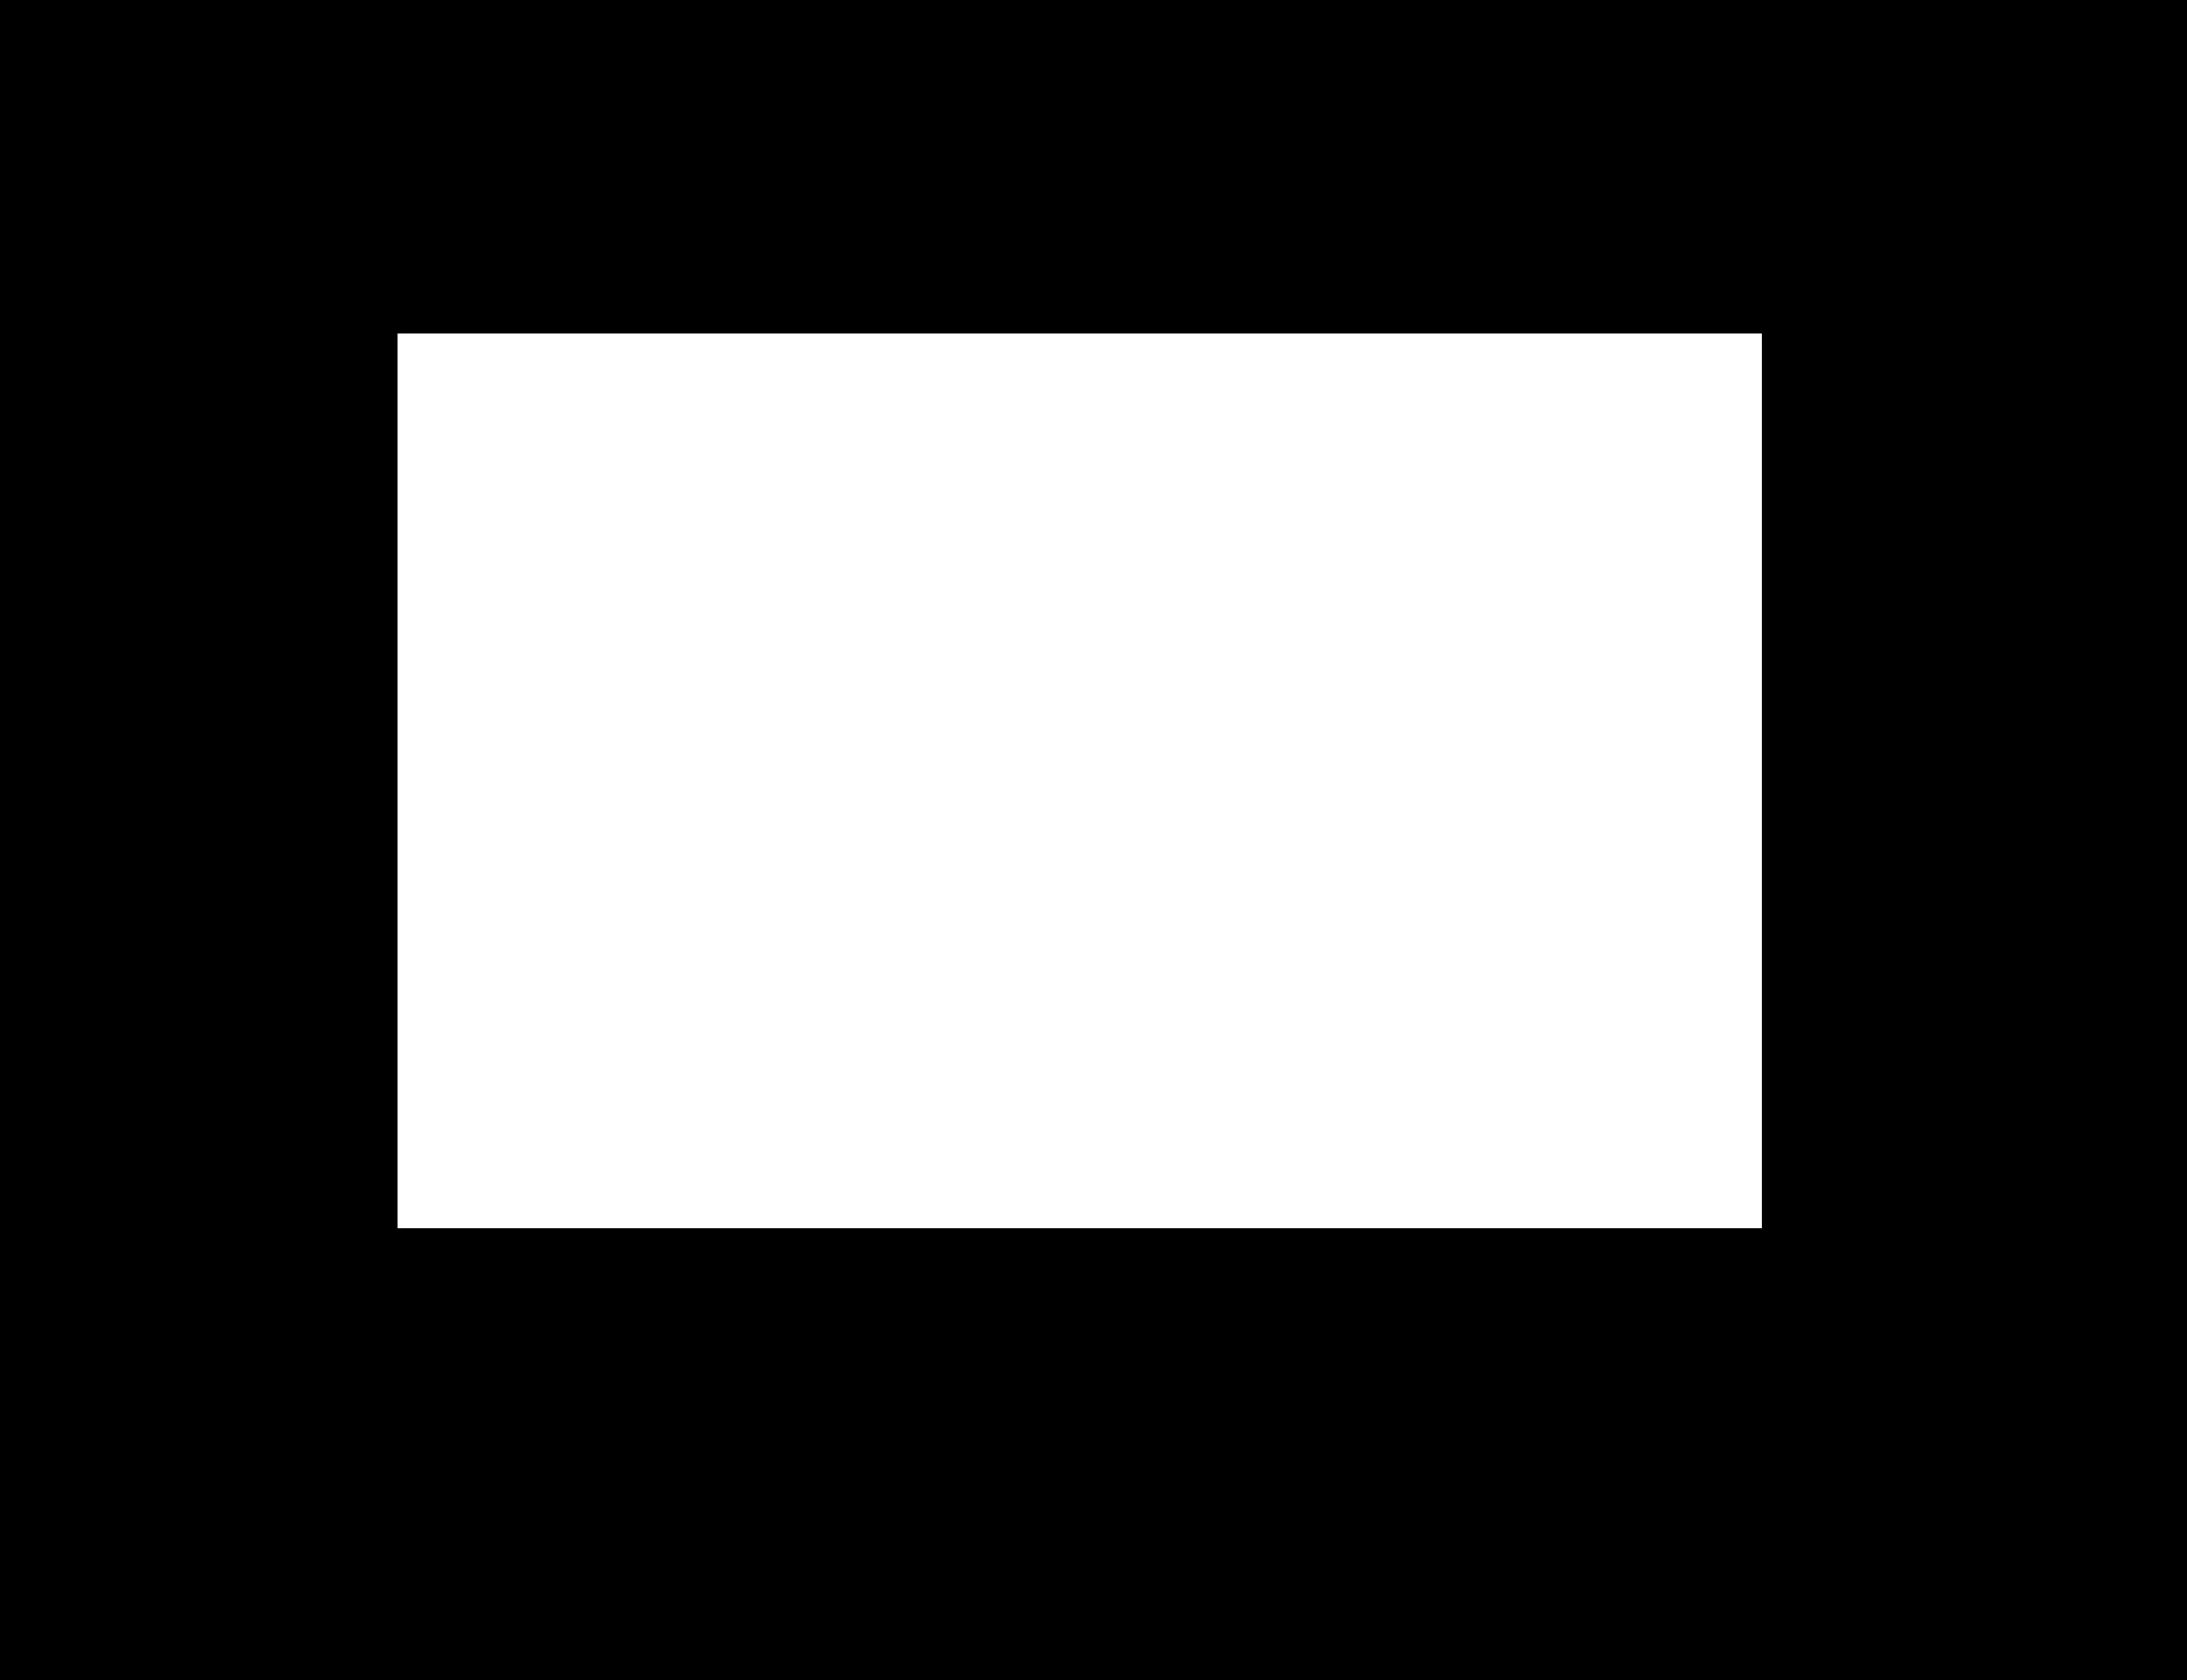table: (397, 334, 1762, 1228)
